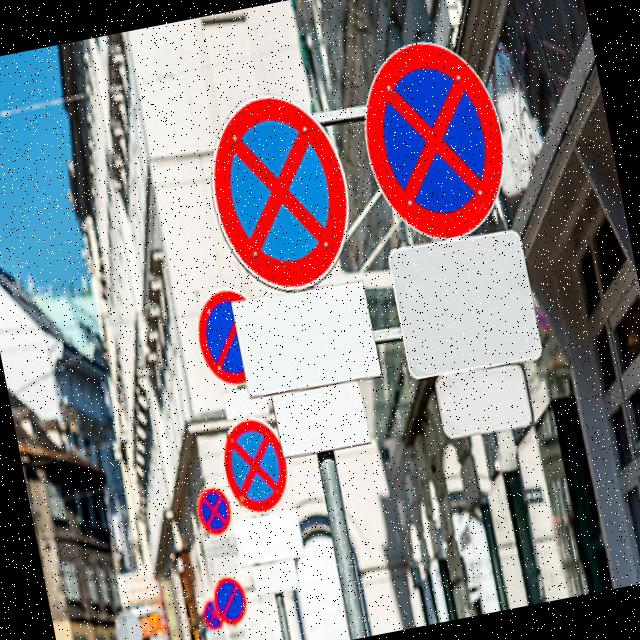no_parking: (350, 24, 528, 254), (192, 74, 370, 304), (215, 411, 301, 518), (191, 470, 234, 552)
